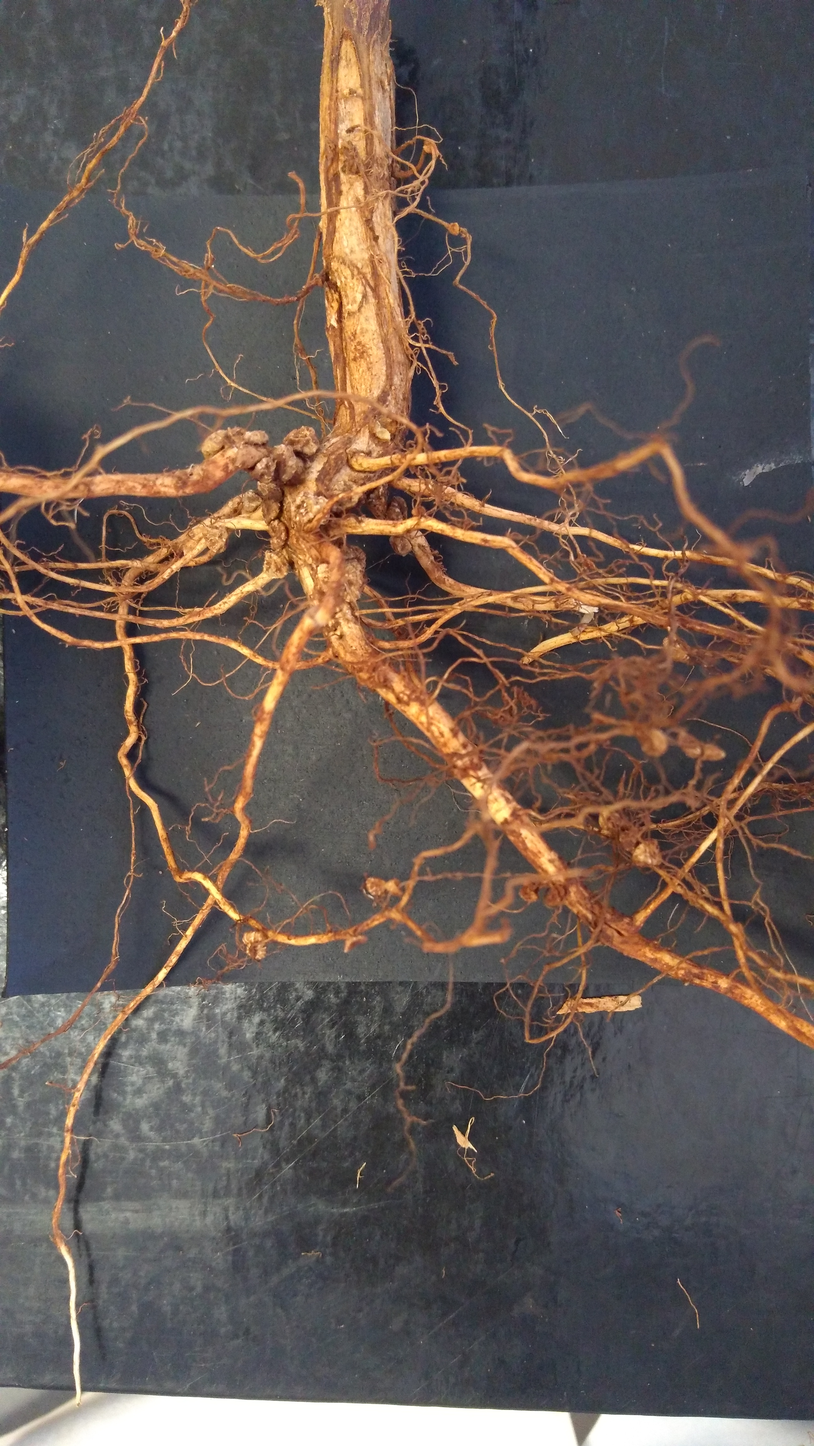nodule: (336, 538, 369, 607), (290, 489, 334, 534), (483, 784, 526, 828), (280, 422, 325, 464), (270, 440, 308, 487), (629, 835, 670, 874), (635, 725, 672, 760), (197, 427, 231, 462), (661, 633, 697, 666), (259, 548, 294, 580), (364, 480, 391, 520), (540, 882, 573, 912), (257, 498, 289, 528), (383, 493, 410, 528), (245, 455, 277, 484), (241, 927, 270, 959), (255, 479, 287, 507), (674, 730, 702, 762), (264, 518, 291, 551), (594, 806, 622, 837), (200, 525, 230, 553), (386, 533, 416, 559), (616, 825, 642, 855), (341, 934, 371, 958), (239, 487, 262, 516), (383, 876, 409, 901), (361, 874, 388, 898), (701, 741, 728, 765), (516, 881, 540, 907), (239, 428, 268, 449), (409, 505, 430, 519), (422, 136, 437, 154), (448, 221, 460, 237)
